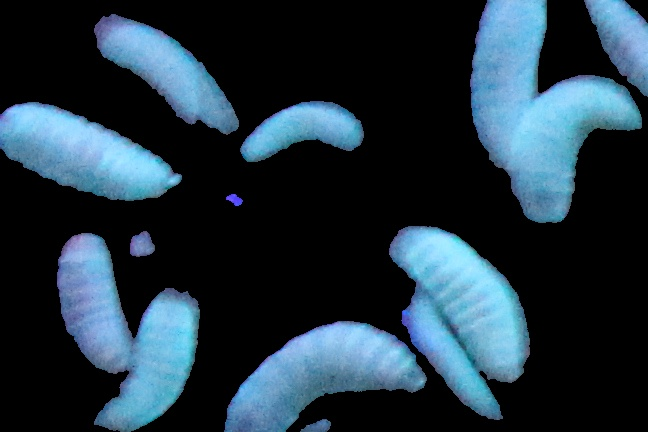larvae: (390, 218, 525, 381), (229, 322, 430, 429), (512, 78, 640, 221), (1, 99, 176, 200), (100, 11, 235, 137), (93, 285, 202, 432), (399, 307, 504, 420), (469, 1, 543, 149), (53, 233, 129, 375), (246, 97, 357, 161), (580, 1, 648, 97)
